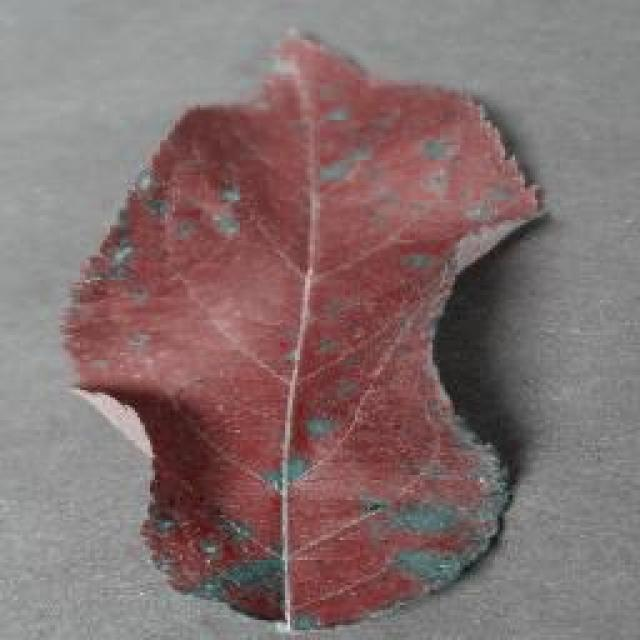apple healthy: (58, 28, 548, 630)
